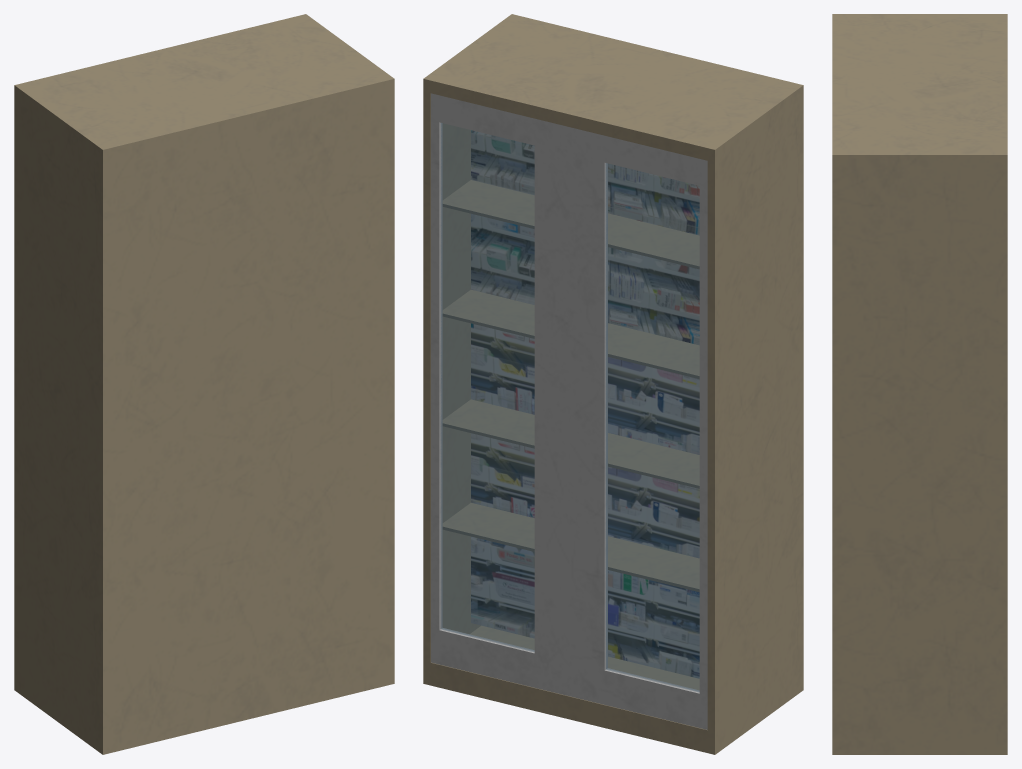
File: MedicineShelf.fbx
The picture shows the model from 3 angles, left to right: view 1: azimuth 30°, elevation 25°; view 2: azimuth 150°, elevation 25°; view 3: azimuth 270°, elevation 25°; orthographic projection.
Parts seen in each view (by area): view 1: MedicineShelf; view 2: MedicineShelf; view 3: MedicineShelf.
Boxes of the visible parts, x1,y1,x2,y2 form: MedicineShelf: (14,14,394,754); MedicineShelf: (423,14,803,754); MedicineShelf: (832,14,1007,754).
Bounding box in the file's own units: 104 × 206 × 54.66.
